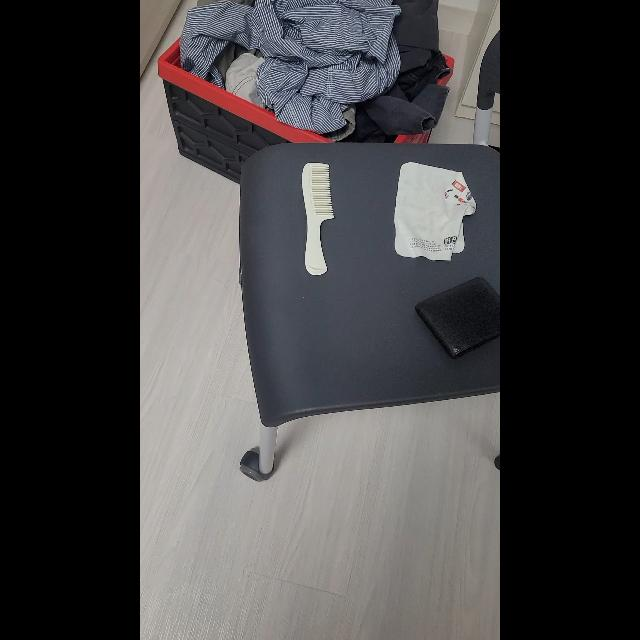COMB: (302, 162, 334, 276)
Glasses cleaning cloth: (394, 162, 476, 260)
WALLET: (416, 278, 500, 358)
